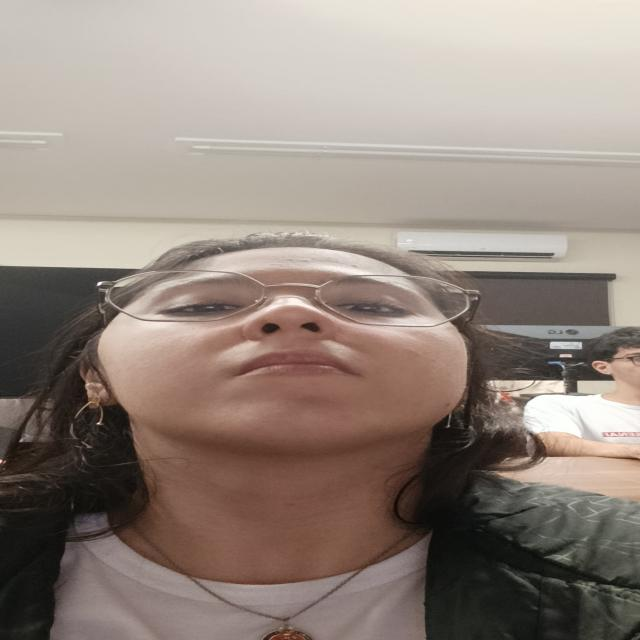sem_oculos: (97, 269, 479, 327)
